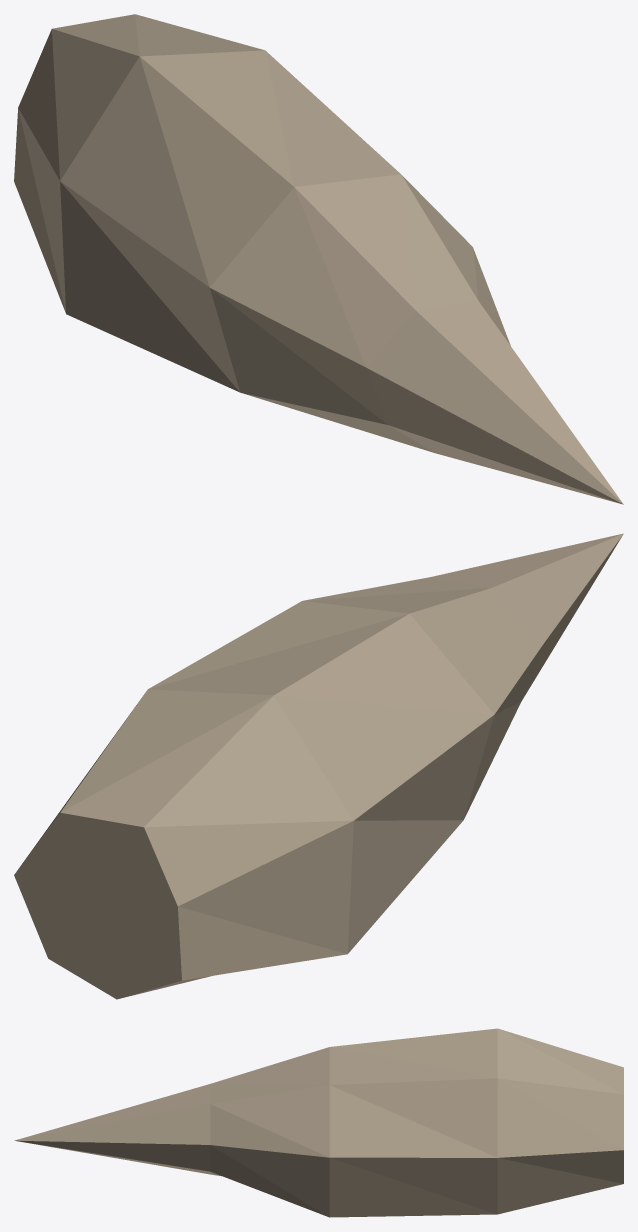
The model's file is earth_spear_rock.glb.
The picture shows the model from 3 angles, top to bottom: view 1: azimuth 30°, elevation 25°; view 2: azimuth 150°, elevation 25°; view 3: azimuth 270°, elevation 25°; orthographic projection. The views are drawn at different scales.
Parts seen in each view (by area): view 1: Earth_Spear_Rock; view 2: Earth_Spear_Rock; view 3: Earth_Spear_Rock.
Part boxes in pixels (x1,y1,x2,y2): Earth_Spear_Rock: (14, 14, 623, 504); Earth_Spear_Rock: (14, 533, 623, 999); Earth_Spear_Rock: (14, 1028, 623, 1217).
Bounding box in the file's own units: 0.3705 × 0.3762 × 1.25.
